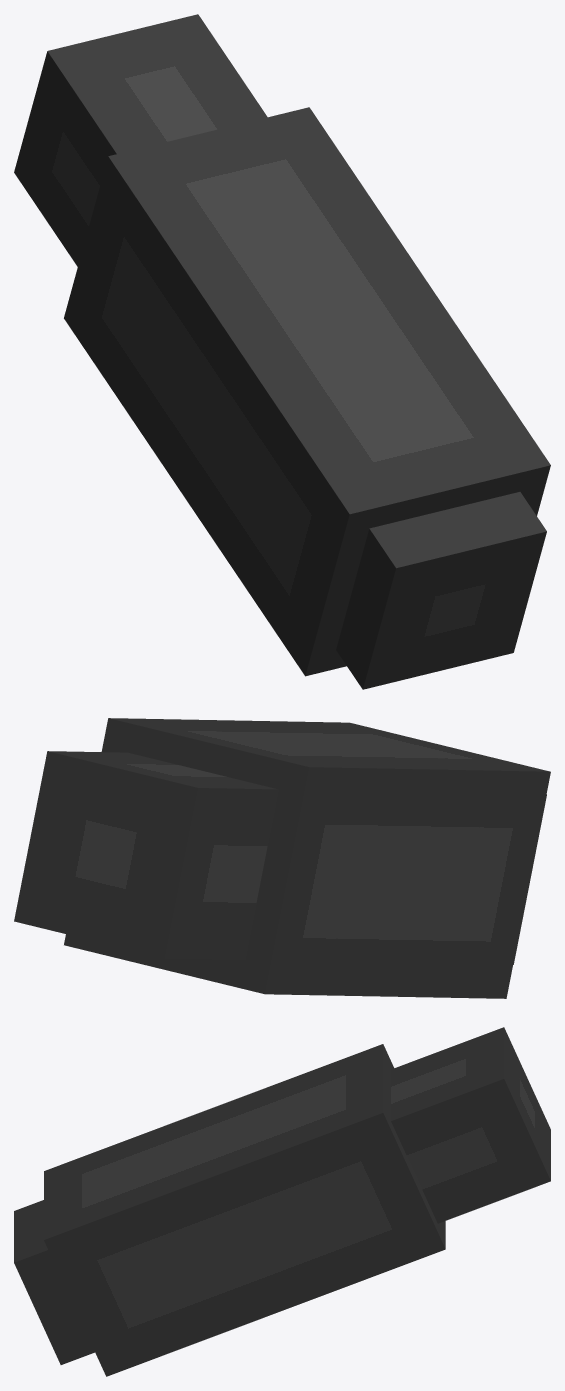
Rendered from dltail.obj.
3 renders of one model, top to bottom at view 1: azimuth 30°, elevation 25°; view 2: azimuth 150°, elevation 25°; view 3: azimuth 270°, elevation 25°, orthographic. The views are drawn at different scales.
Parts seen in each view (by area): view 1: cube; view 2: cube; view 3: cube.
Boxes of the visible parts, bbox=[...] form: cube: bbox=[14, 14, 550, 689]; cube: bbox=[14, 718, 550, 998]; cube: bbox=[14, 1027, 550, 1376].
Size of the model in its own units: 0.25 by 0.4891 by 0.8224.
